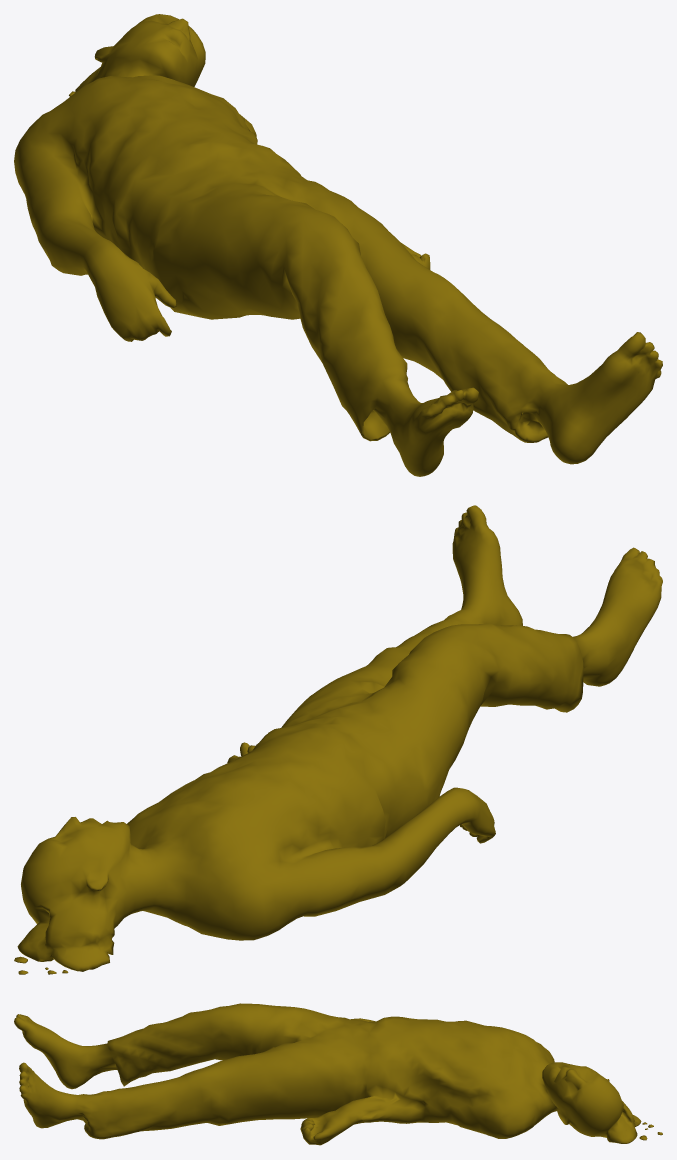
The picture shows the model from 3 angles, top to bottom: view 1: azimuth 30°, elevation 25°; view 2: azimuth 150°, elevation 25°; view 3: azimuth 270°, elevation 25°; orthographic projection. The views are drawn at different scales.
Visible parts, largest first — view 1: g corpse_1_fresh_midp; view 2: g corpse_1_fresh_midp; view 3: g corpse_1_fresh_midp.
Part boxes in pixels (x1,y1,x2,y2): g corpse_1_fresh_midp: (14, 14, 662, 476); g corpse_1_fresh_midp: (14, 505, 662, 974); g corpse_1_fresh_midp: (14, 1003, 662, 1145).
Size of the model in its own units: 0.6565 by 0.3287 by 2.
